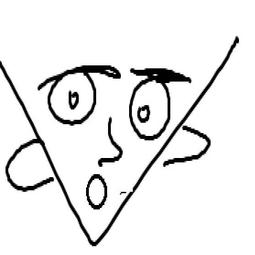ear: (4, 134, 53, 197), (166, 124, 217, 174)
eye: (43, 68, 98, 128), (126, 75, 171, 143)
nose: (95, 114, 125, 167)
open_mouth: (80, 172, 111, 213)
